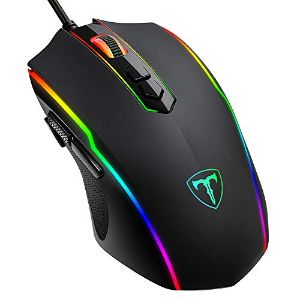mouse: (20, 4, 271, 294)
